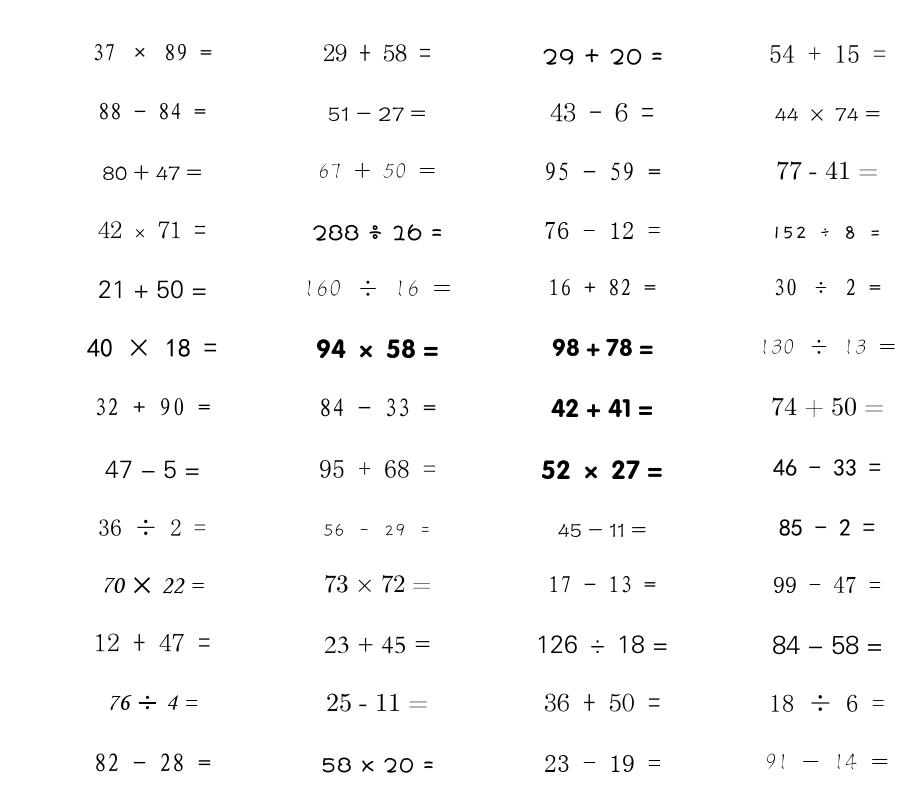MQ: (87, 338, 217, 358), (303, 280, 451, 297), (536, 635, 668, 654), (316, 339, 439, 359), (541, 460, 663, 480), (771, 397, 884, 418), (312, 224, 443, 241), (769, 44, 886, 63), (544, 162, 661, 181), (319, 398, 436, 417), (94, 633, 211, 652), (544, 693, 661, 712), (94, 753, 211, 772), (772, 635, 883, 655), (759, 339, 896, 355), (92, 43, 212, 61), (765, 753, 889, 770), (94, 398, 211, 416), (319, 460, 436, 478), (769, 694, 885, 712), (98, 280, 207, 299), (542, 48, 663, 65), (551, 398, 653, 418), (544, 222, 661, 239), (544, 755, 661, 772), (550, 103, 654, 122), (323, 44, 431, 62), (98, 102, 206, 120), (98, 221, 206, 239), (548, 278, 656, 296), (773, 278, 881, 296), (548, 575, 656, 593), (776, 161, 878, 180), (326, 693, 428, 712), (324, 575, 431, 593), (324, 636, 431, 654), (552, 338, 653, 357), (318, 163, 436, 179), (773, 459, 881, 476), (98, 519, 206, 536), (773, 576, 881, 593), (321, 757, 434, 773), (105, 460, 200, 479), (101, 577, 204, 594), (102, 164, 202, 181), (779, 519, 875, 536), (775, 107, 880, 122), (323, 523, 432, 537), (107, 695, 198, 711), (773, 226, 882, 239), (328, 107, 426, 121), (558, 523, 646, 538)
